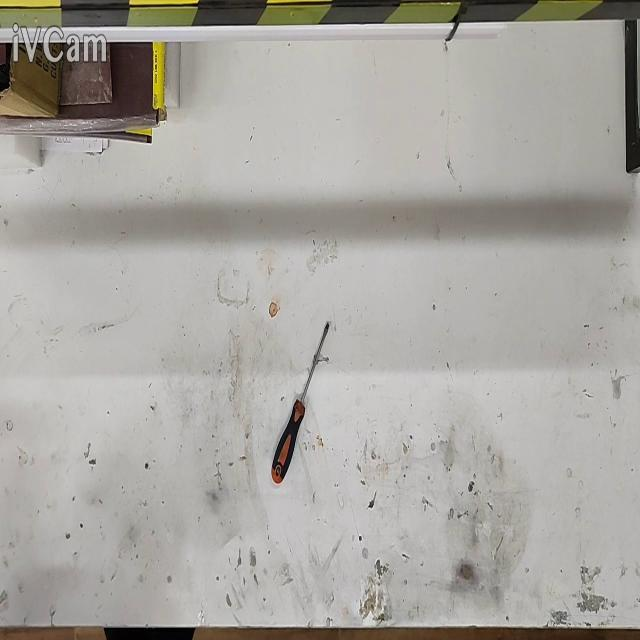Screwdriver: (271, 322, 329, 484)
